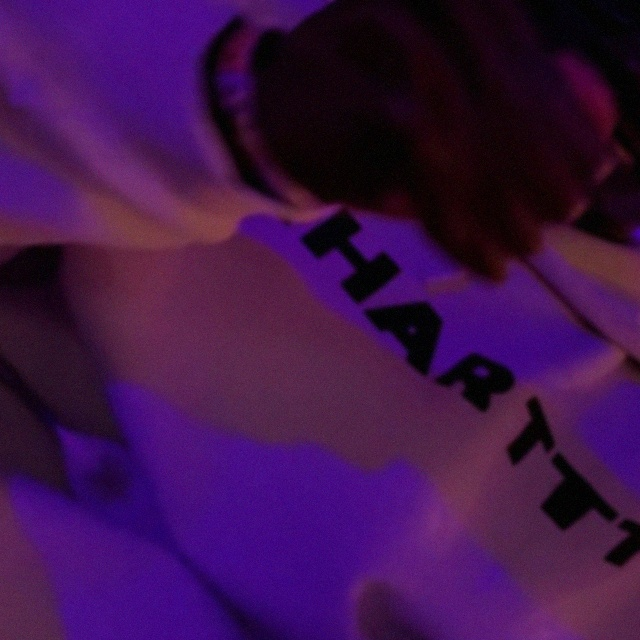Rock: (533, 0, 640, 45)
